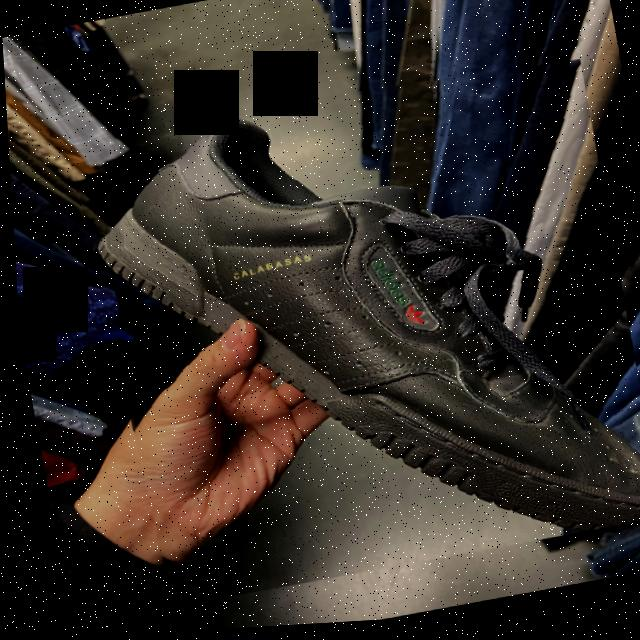shoe: (60, 45, 640, 615)
